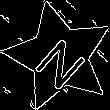N_NE: (27, 25, 92, 89)
